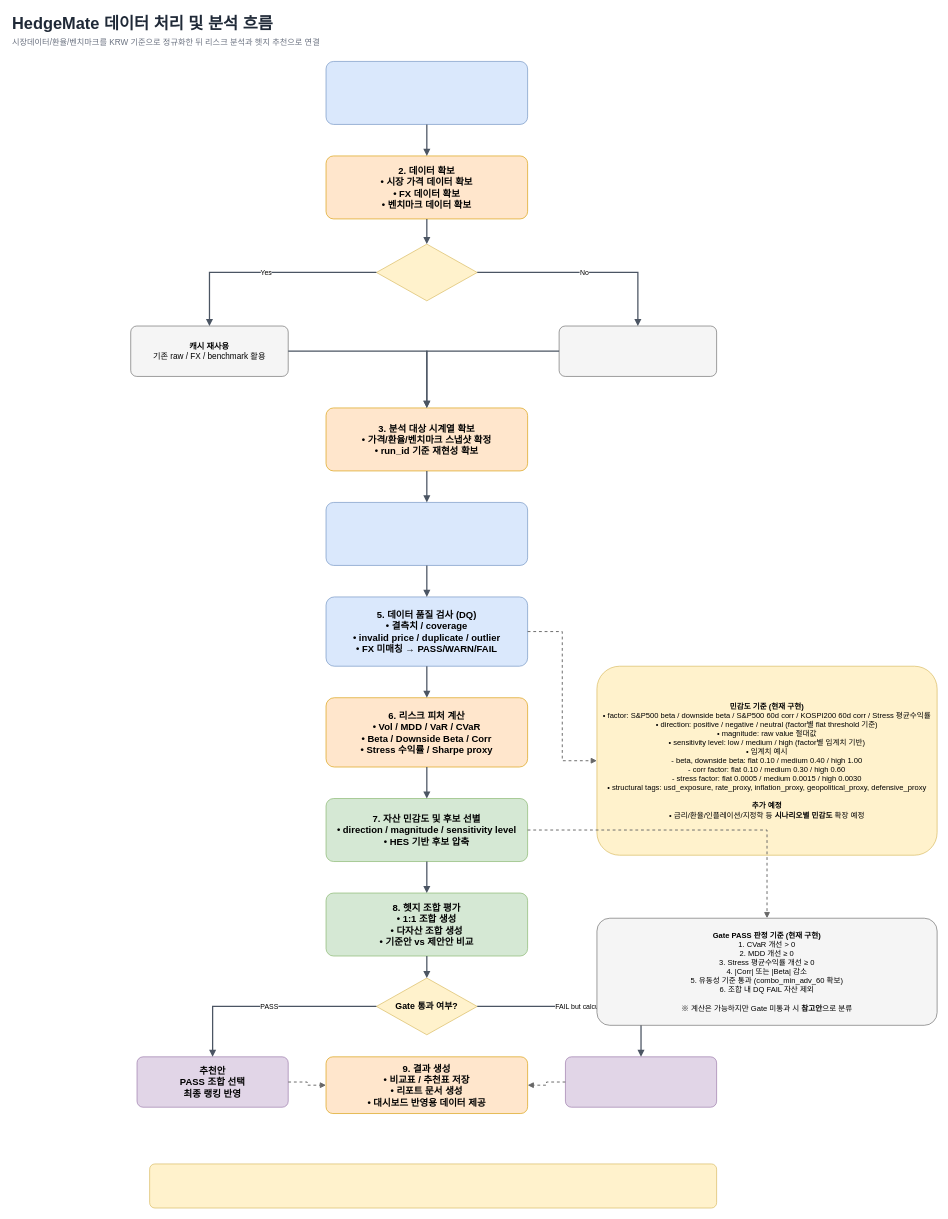
The diagram is 948 pixels wide and 1219 high, and some of its shapes have lost their labels. The centre of each missing label's shape, as x and y in pixels:
"1. 입력 데이터 • 자산 유니버스 메타 • 사용자 단일 자산 입력 • 사용자 포트폴리오 입력" belongs at point 426,92.
"4. KRW 정규화 • USD 자산 → KRW 환산 • 시계열 정렬 • 수익률 시계열 생성" belongs at point 426,533.
"기존 raw snapshot 존재?" belongs at point 426,272.
"신규 수집 외부 시세 기반 raw 데이터 생성" belongs at point 637,350.
"참고안 Gate 실패 but calculable fallback 결과 제공" belongs at point 641,1081.
"핵심 메시지 수집된 데이터를 KRW 기준으로 정규화하고, DQ 검사와 리스크 분석을 거쳐 헷지 추천 결과를 생성" belongs at point 433,1185.
